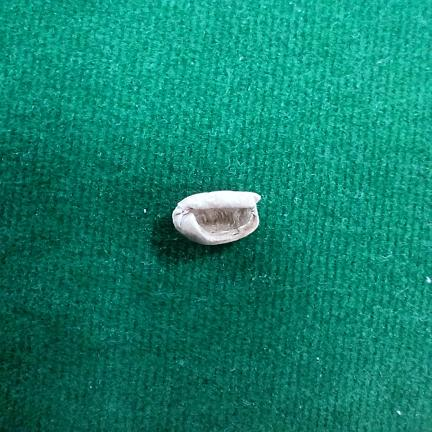shell: (172, 191, 260, 245)
